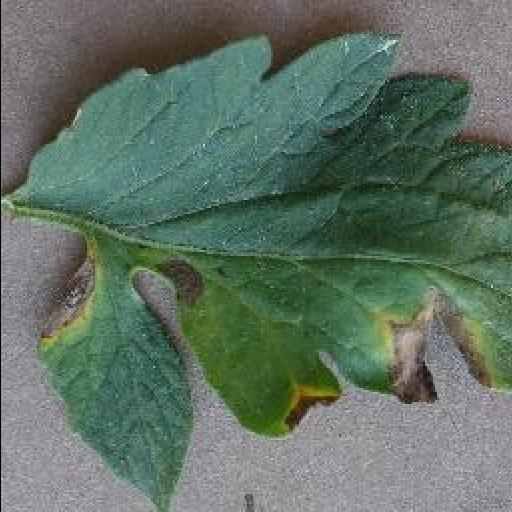Early Blight: (0, 32, 510, 512)
